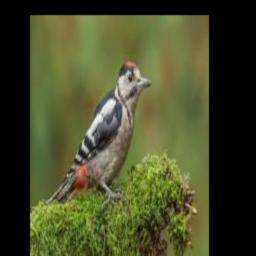Woodpecker: (47, 60, 151, 205)
